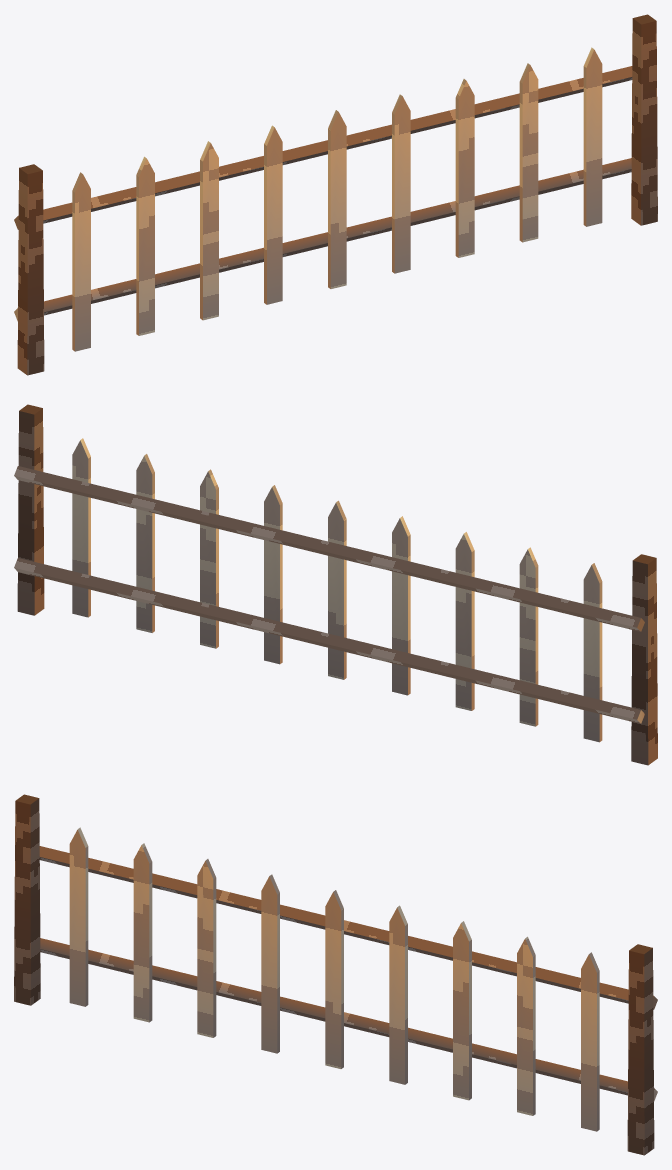
The model's file is wtown.fence__picket.glb.
The picture shows the model from 3 angles, top to bottom: view 1: azimuth 30°, elevation 25°; view 2: azimuth 150°, elevation 25°; view 3: azimuth 330°, elevation 25°; orthographic projection.
Parts seen in each view (by area): view 1: kit_pickets, kit_rails, kit_posts; view 2: kit_pickets, kit_rails, kit_posts; view 3: kit_pickets, kit_rails, kit_posts.
Part boxes in pixels (bbox=[...]): kit_pickets: bbox=[72, 47, 602, 351]; kit_rails: bbox=[14, 66, 632, 321]; kit_posts: bbox=[17, 14, 657, 375]; kit_pickets: bbox=[72, 438, 602, 742]; kit_rails: bbox=[14, 466, 644, 723]; kit_posts: bbox=[17, 404, 657, 765]; kit_pickets: bbox=[69, 827, 599, 1131]; kit_rails: bbox=[39, 846, 657, 1101]; kit_posts: bbox=[14, 794, 654, 1155].
Size of the model in its own units: 3.95 by 1.2 by 0.1855.
Materials: 3 (3 with a texture image).
